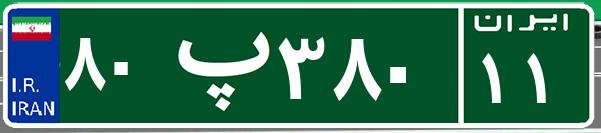0: (385, 28, 445, 110), (110, 28, 158, 105)
1: (475, 38, 525, 113), (525, 38, 570, 115)
3: (273, 28, 330, 110)
8: (330, 28, 385, 110), (57, 26, 110, 107)
پ: (158, 15, 273, 115)
